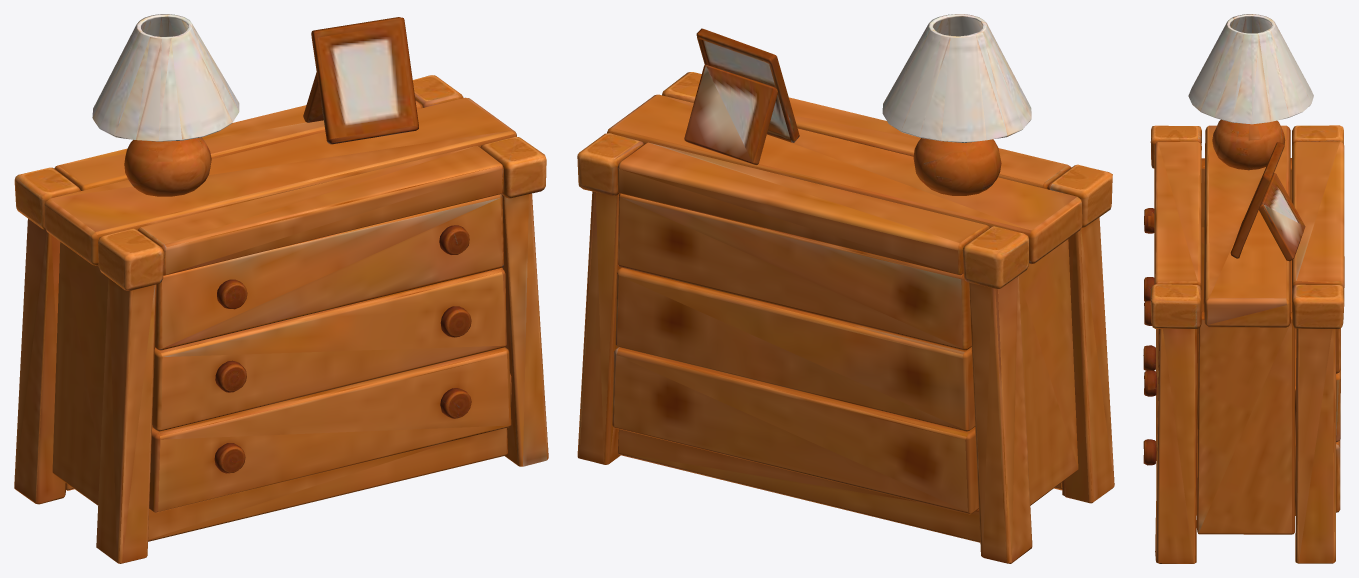
The model's file is dresser.glb.
The picture shows the model from 3 angles, left to right: view 1: azimuth 30°, elevation 25°; view 2: azimuth 150°, elevation 25°; view 3: azimuth 270°, elevation 25°; orthographic projection. The views are drawn at different scales.
Bounding box in the file's own units: 0.9558 × 1 × 0.4525.
1 material, 1 textured.
